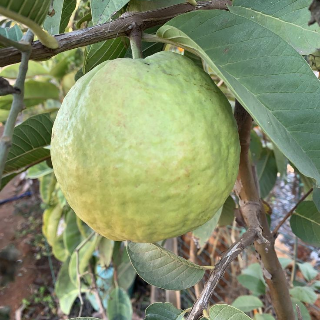oi: (51, 54, 239, 243)
